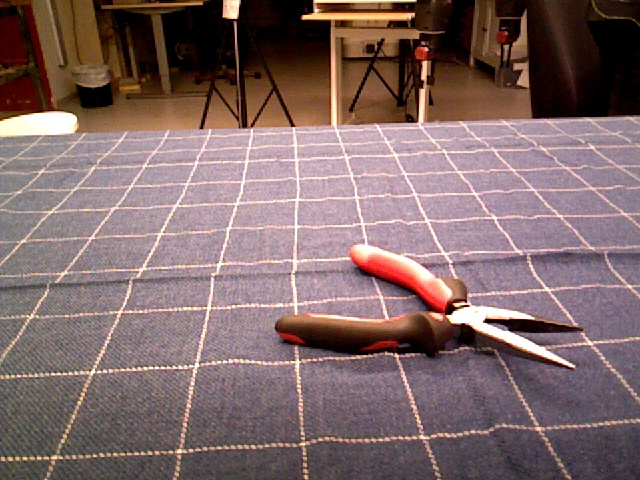plier1: (275, 243, 585, 373)
